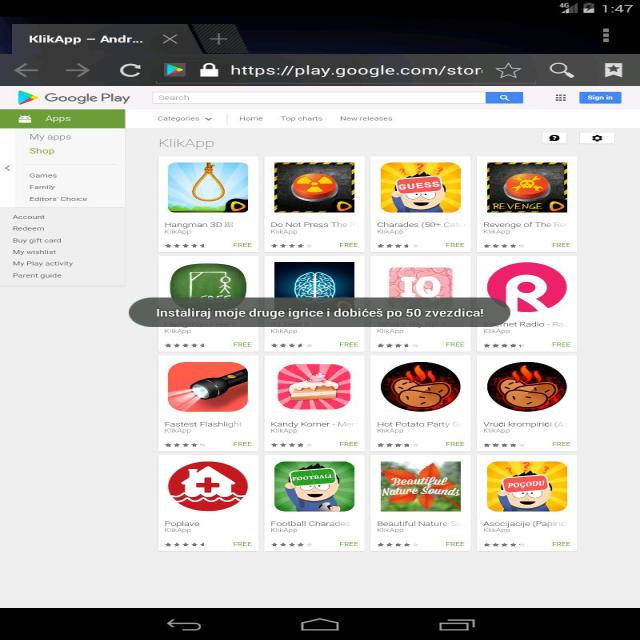button: (264, 255, 364, 353), (158, 156, 260, 252), (370, 255, 470, 352), (158, 455, 259, 551), (264, 454, 362, 552), (370, 157, 470, 253), (478, 256, 578, 352), (477, 156, 576, 252), (159, 355, 258, 451), (265, 356, 364, 452), (371, 456, 470, 552), (478, 355, 576, 451), (159, 256, 258, 351), (266, 157, 364, 252), (371, 356, 469, 451), (478, 456, 576, 551), (0, 110, 125, 128), (1, 130, 15, 205), (154, 112, 218, 126), (22, 131, 84, 144), (334, 112, 395, 125), (19, 147, 84, 159), (24, 194, 90, 205), (274, 112, 325, 126), (20, 170, 68, 182), (581, 92, 621, 104), (10, 260, 76, 267), (486, 91, 522, 103), (12, 272, 66, 280), (233, 113, 268, 125), (580, 132, 614, 144), (12, 237, 63, 244), (11, 248, 57, 255), (22, 184, 66, 191), (11, 213, 47, 221), (544, 133, 566, 144), (10, 226, 47, 231), (556, 93, 567, 102)
field: (152, 92, 484, 104)
heading: (44, 91, 132, 106), (157, 137, 217, 150)
image: (15, 90, 38, 105)
label: (158, 94, 192, 102)
text: (154, 308, 486, 319)
